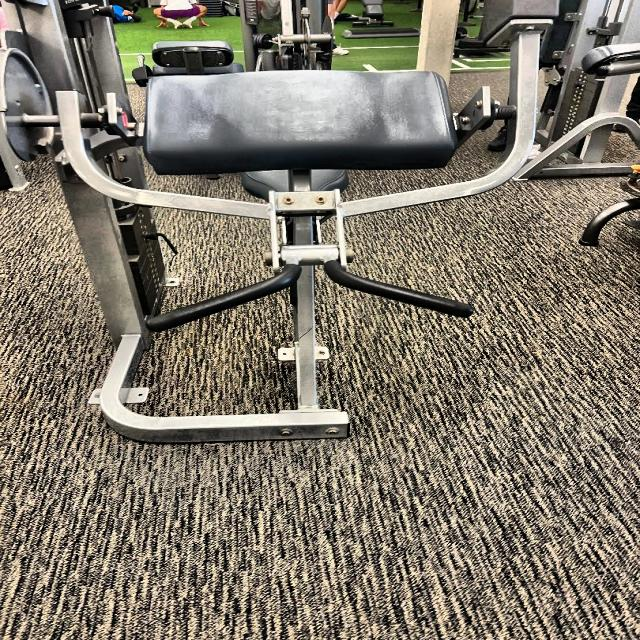bicep_curl_machine: (45, 32, 608, 468)
